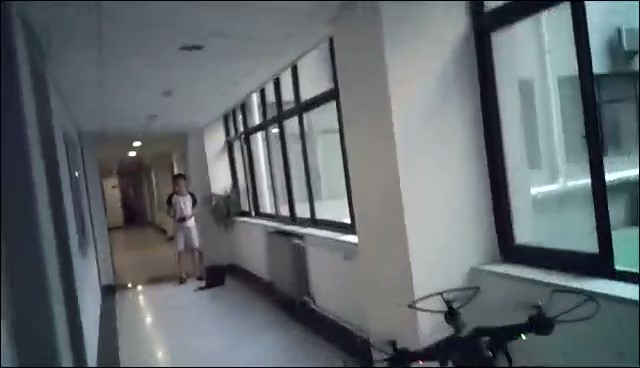drone: (339, 285, 604, 368)
person: (165, 173, 209, 287)
